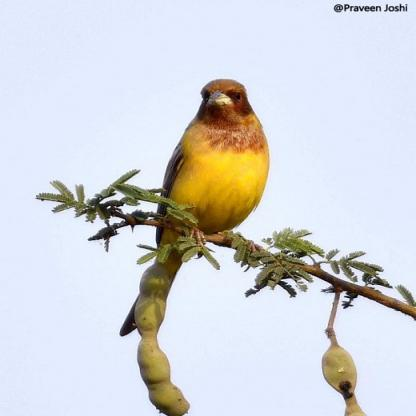Burung: (122, 75, 272, 336)
